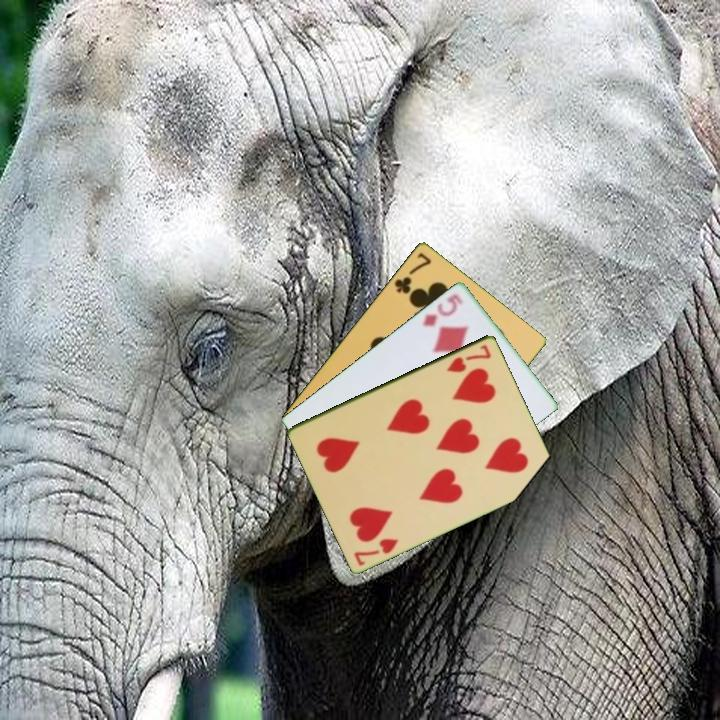5d: (419, 290, 466, 329)
7c: (390, 249, 434, 296)
7h: (443, 340, 494, 375), (350, 534, 401, 569)
